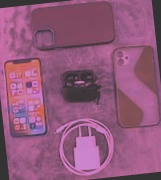iphone: (115, 53, 157, 134), (6, 53, 44, 132)
